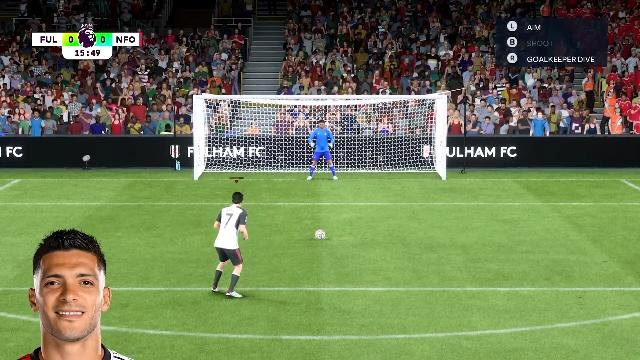bottom-left: (198, 140, 278, 180)
bottom-right: (366, 140, 442, 180)
center-down: (279, 140, 365, 180)
center-up: (279, 100, 365, 138)
circle: (312, 236, 328, 240)
football: (314, 229, 326, 239)
goalkeeper: (307, 120, 338, 182)
player: (204, 189, 274, 299)
top-left: (198, 100, 278, 138)
top-right: (366, 100, 442, 138)
